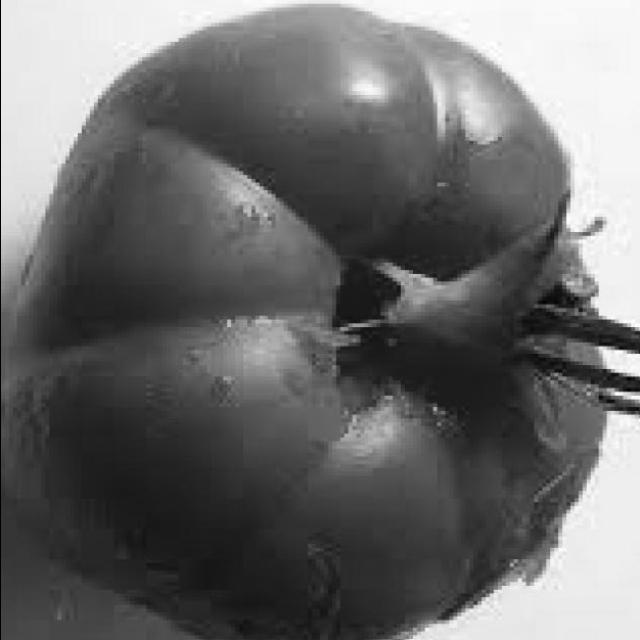Healthy: (2, 5, 610, 640)
